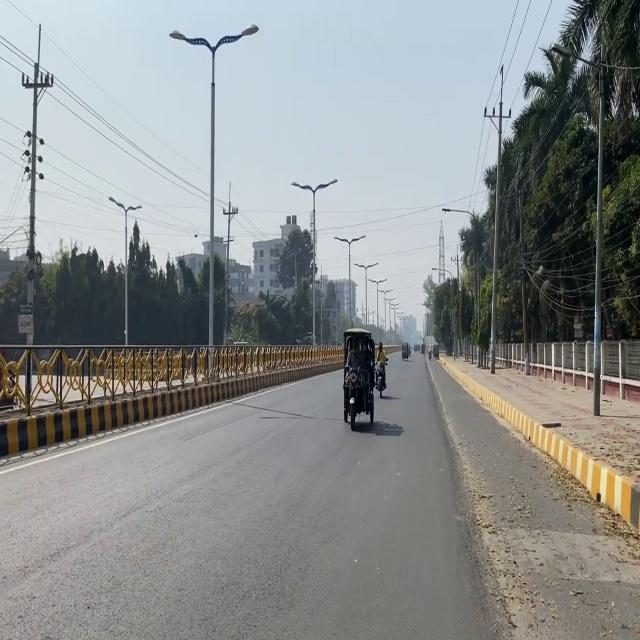Construction-barrier: (423, 350, 514, 638)
Garbage: (342, 327, 376, 430)
Garbage-bin: (374, 341, 388, 389)
Light-pole: (588, 88, 614, 418)
Pole: (8, 326, 266, 478)
Pothole: (425, 351, 639, 639)
